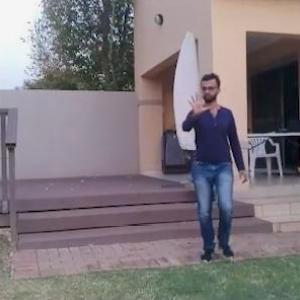follow_hand: (180, 84, 212, 119)
